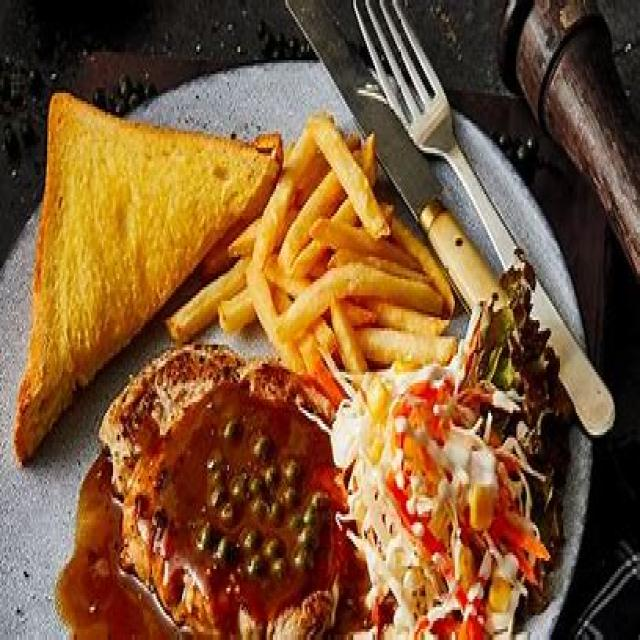carb: (16, 95, 456, 462)
meat: (101, 350, 346, 637)
vegetable: (332, 256, 571, 639), (171, 391, 330, 593)
